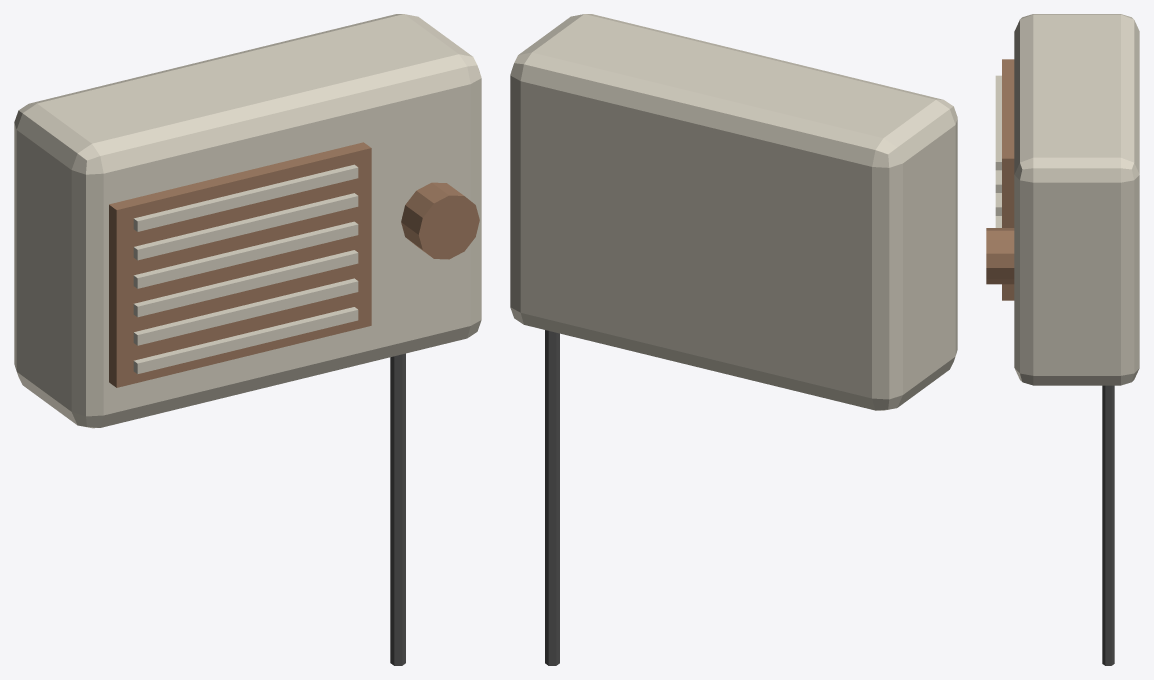
The model's file is kitchen_radio.glb.
3 renders of one model, left to right at view 1: azimuth 30°, elevation 25°; view 2: azimuth 150°, elevation 25°; view 3: azimuth 270°, elevation 25°, orthographic. The views are drawn at different scales.
Parts seen in each view (by area): view 1: kitchen_radio; view 2: kitchen_radio; view 3: kitchen_radio.
Part boxes in pixels (x1=…): kitchen_radio: x1=14, y1=14, x2=481, y2=665; kitchen_radio: x1=510, y1=14, x2=957, y2=665; kitchen_radio: x1=986, y1=14, x2=1139, y2=665.
Size of the model in its own units: 0.24 by 0.36 by 0.098.
